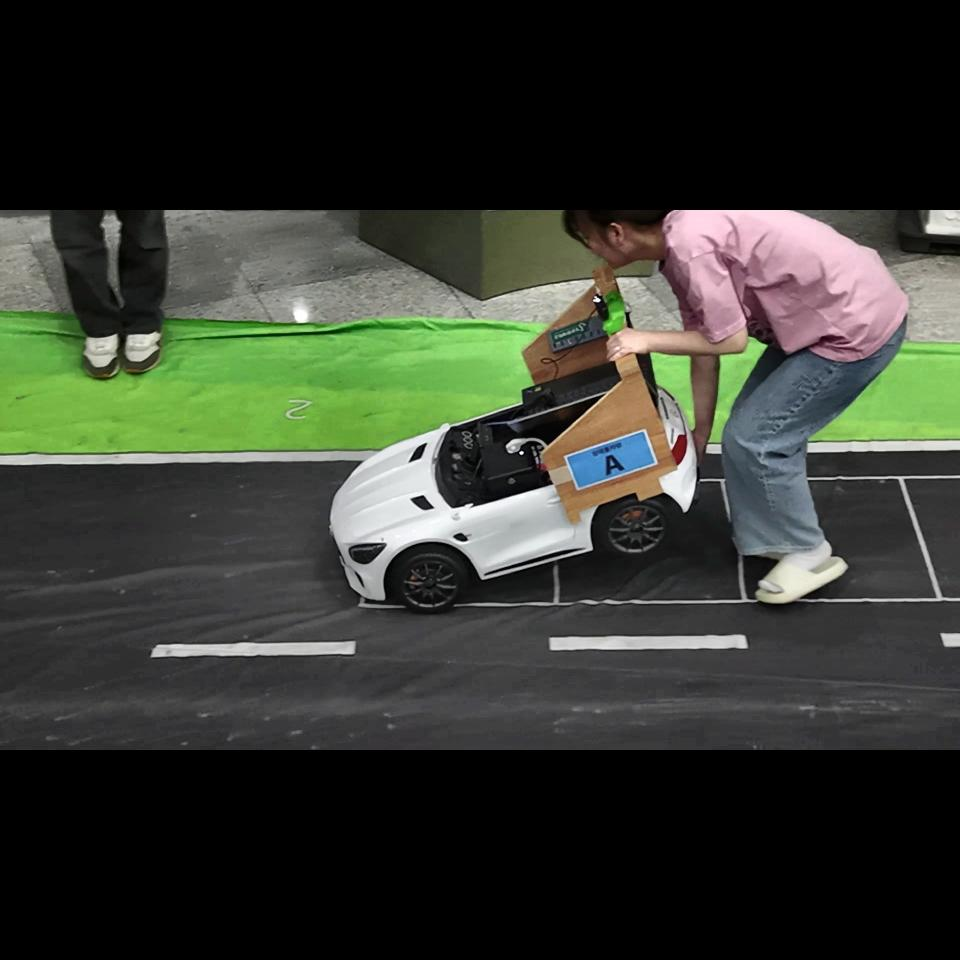broken_line: (150, 641, 356, 657), (549, 634, 748, 650), (939, 633, 960, 647)
